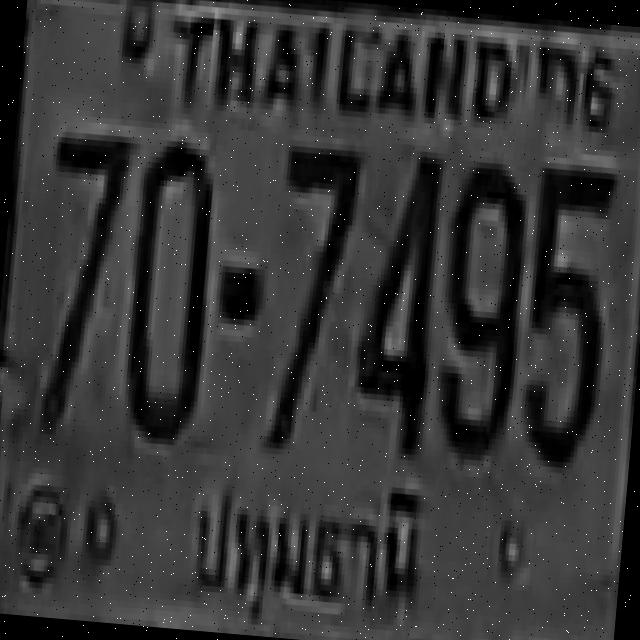0: (118, 132, 217, 440)
4: (347, 141, 446, 449)
5: (513, 162, 615, 464)
7: (260, 140, 362, 448), (29, 125, 131, 433)
9: (432, 154, 530, 456)
PathumThani: (175, 467, 432, 638)
